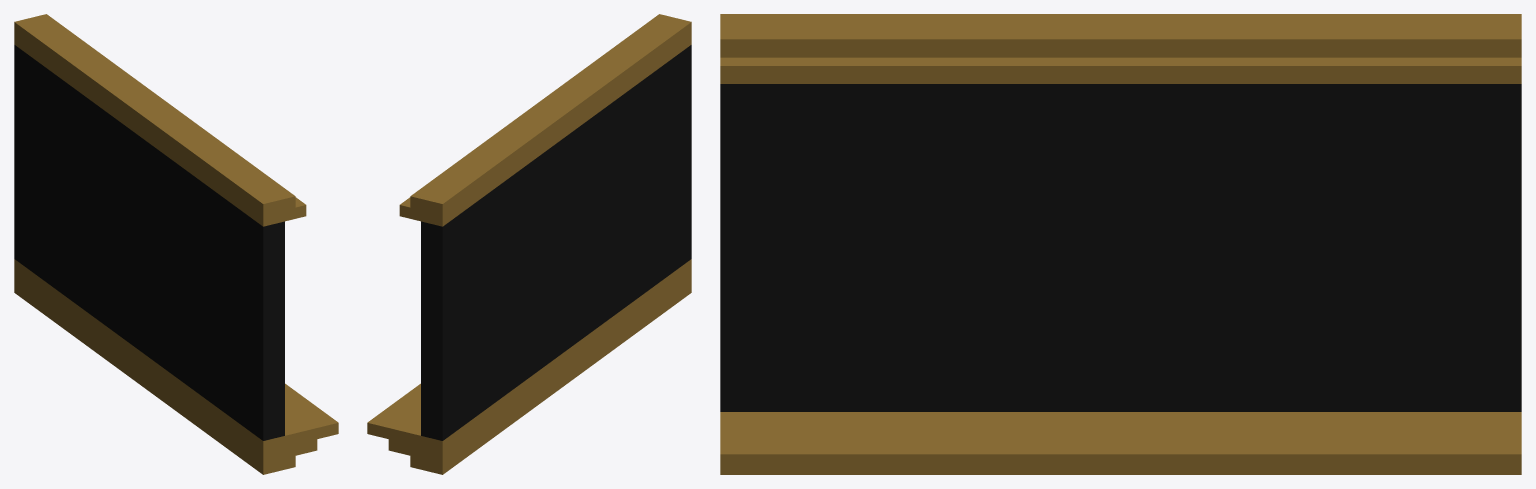
Rendered from SecretariaCentro.obj.
3 renders of one model, left to right at view 1: azimuth 30°, elevation 25°; view 2: azimuth 150°, elevation 25°; view 3: azimuth 270°, elevation 25°, orthographic. The views are drawn at different scales.
Bounding box in the file's own units: 0.7 × 2.4 × 4.
1 material, 1 textured.
